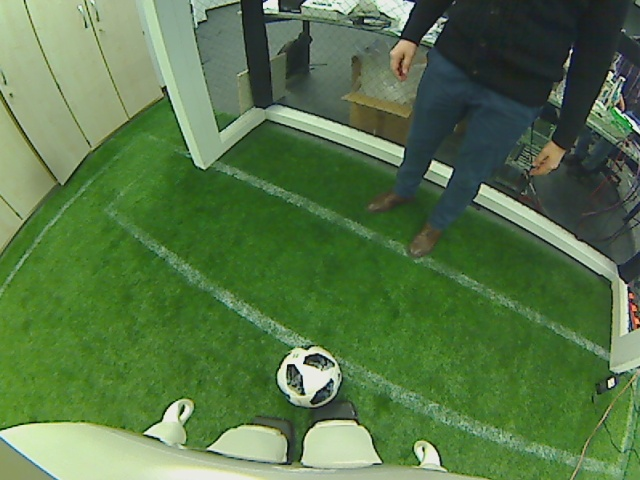ball: (276, 343, 341, 409)
